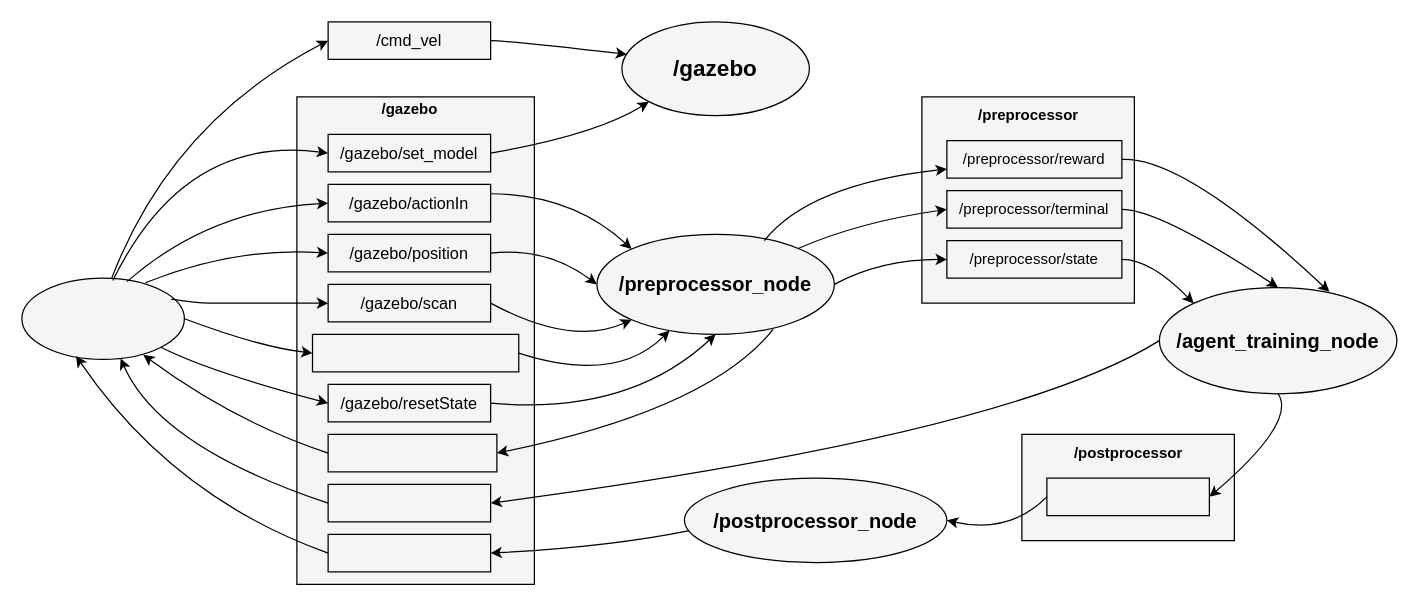
This 1419x606 diagram has some shape labels left out. Each missing label, with the box of its shape:
/gazebo/goalReached: (327, 433, 497, 472)
/gazebo/goalReachedBool: (311, 333, 519, 372)
/gazebo/reset: (327, 483, 491, 522)
/gazebo/step: (327, 533, 491, 572)
/gazeboEnv: (21, 277, 184, 359)
/post/step: (1046, 477, 1209, 516)
